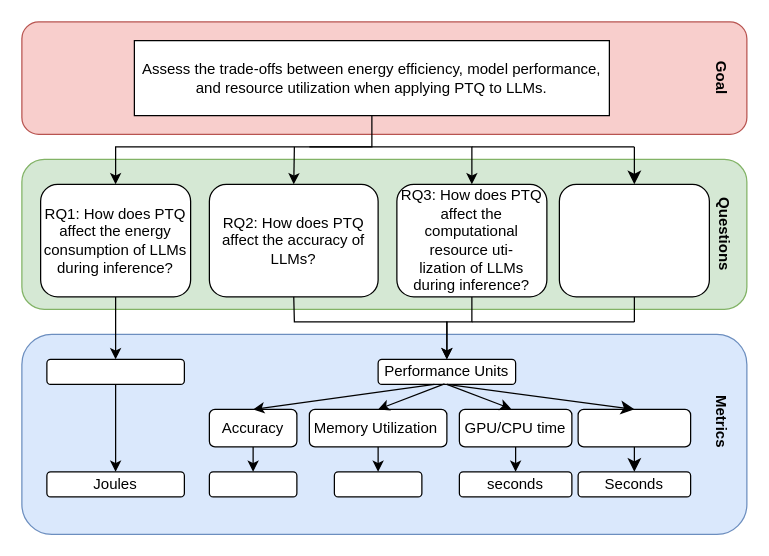
This 769x556 diagram has some shape labels left out. Each missing label, with the box of its shape:
Energy Unit: (46, 358, 184, 384)
Latency: (577, 408, 691, 447)
MB: (333, 471, 422, 497)
Percentage: (208, 471, 297, 497)
RQ4: How does PTQ affect the inference time of LLMs?: (558, 183, 709, 297)
